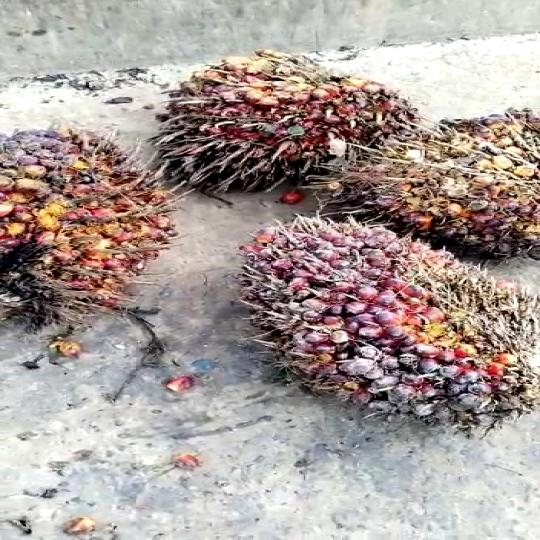masak: (214, 212, 516, 451), (0, 114, 182, 339), (148, 50, 423, 198)
